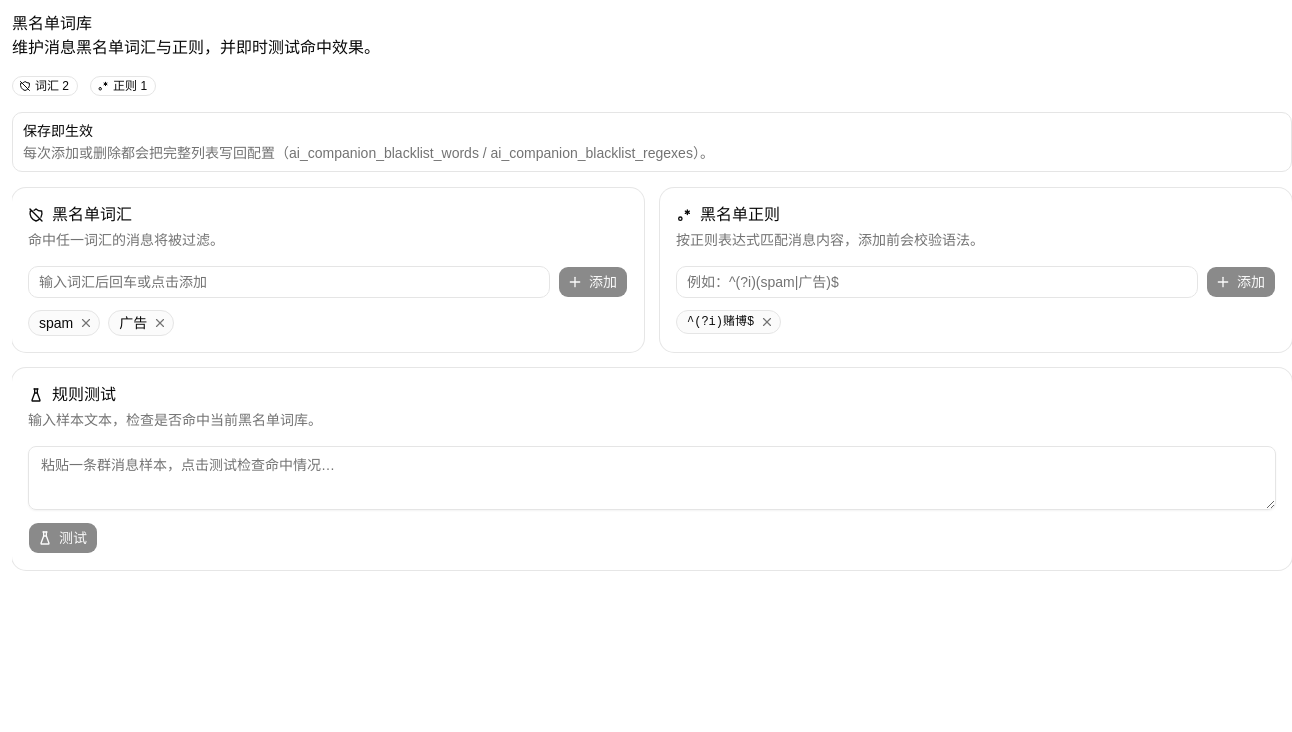
blacklist workspace › adds a word optimistically and patches the whole array
Step 1. Type "外挂" into the field named "新词汇" → [289, 282], box [28, 266, 550, 298]
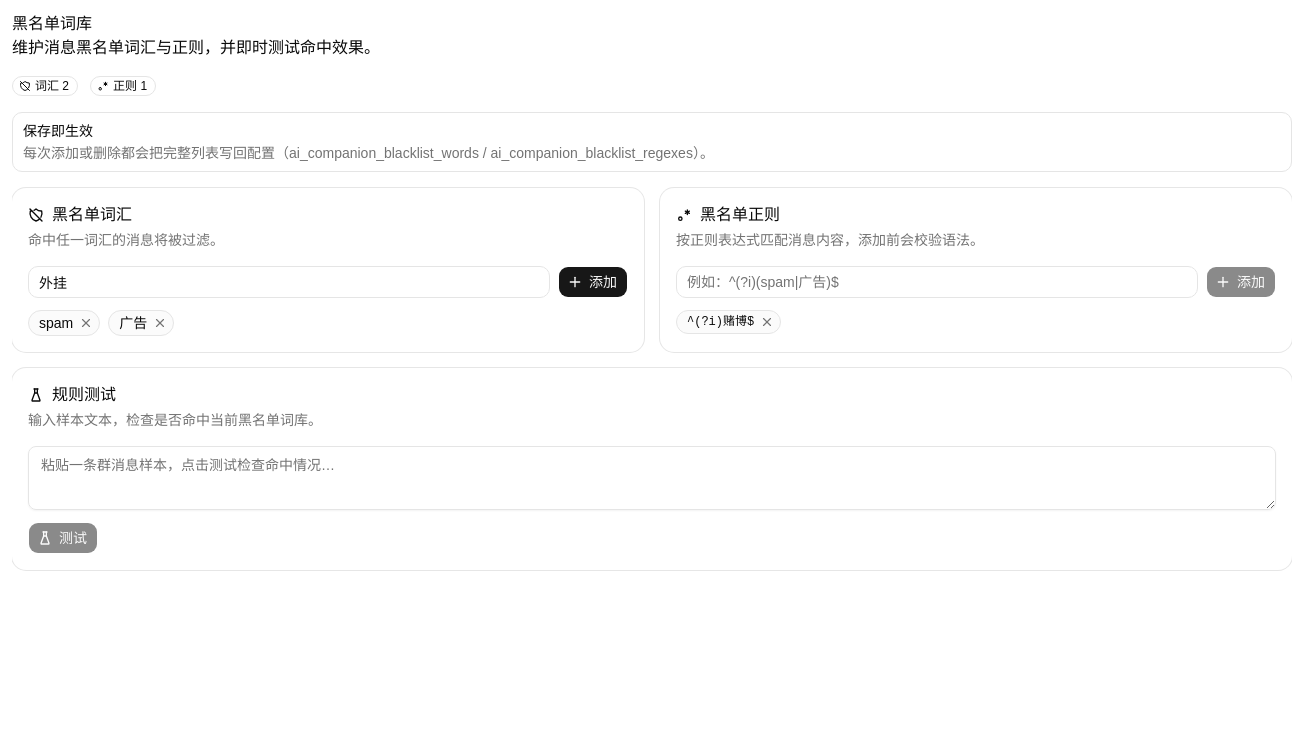
Step 2. Click the 1st button "添加" → [593, 282], box [558, 266, 628, 298]
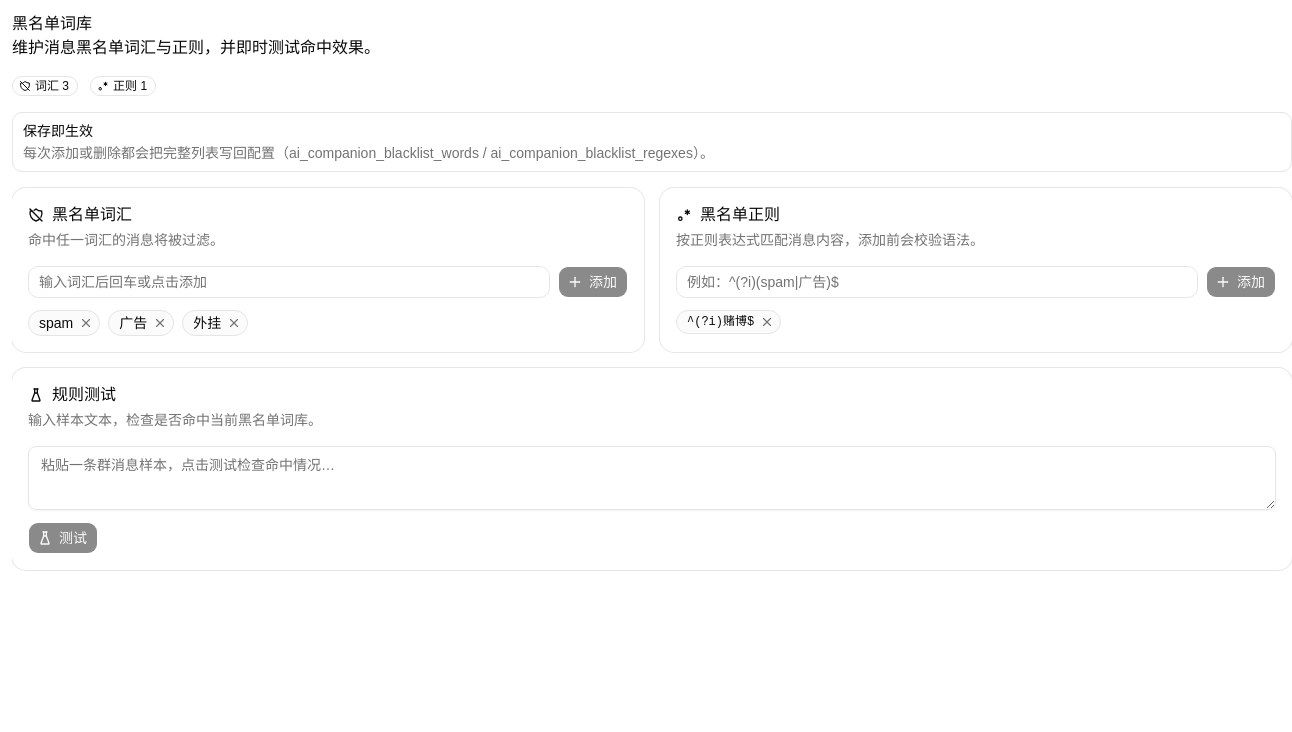
Check: the text "外挂" is shown, box [193, 313, 221, 333]
